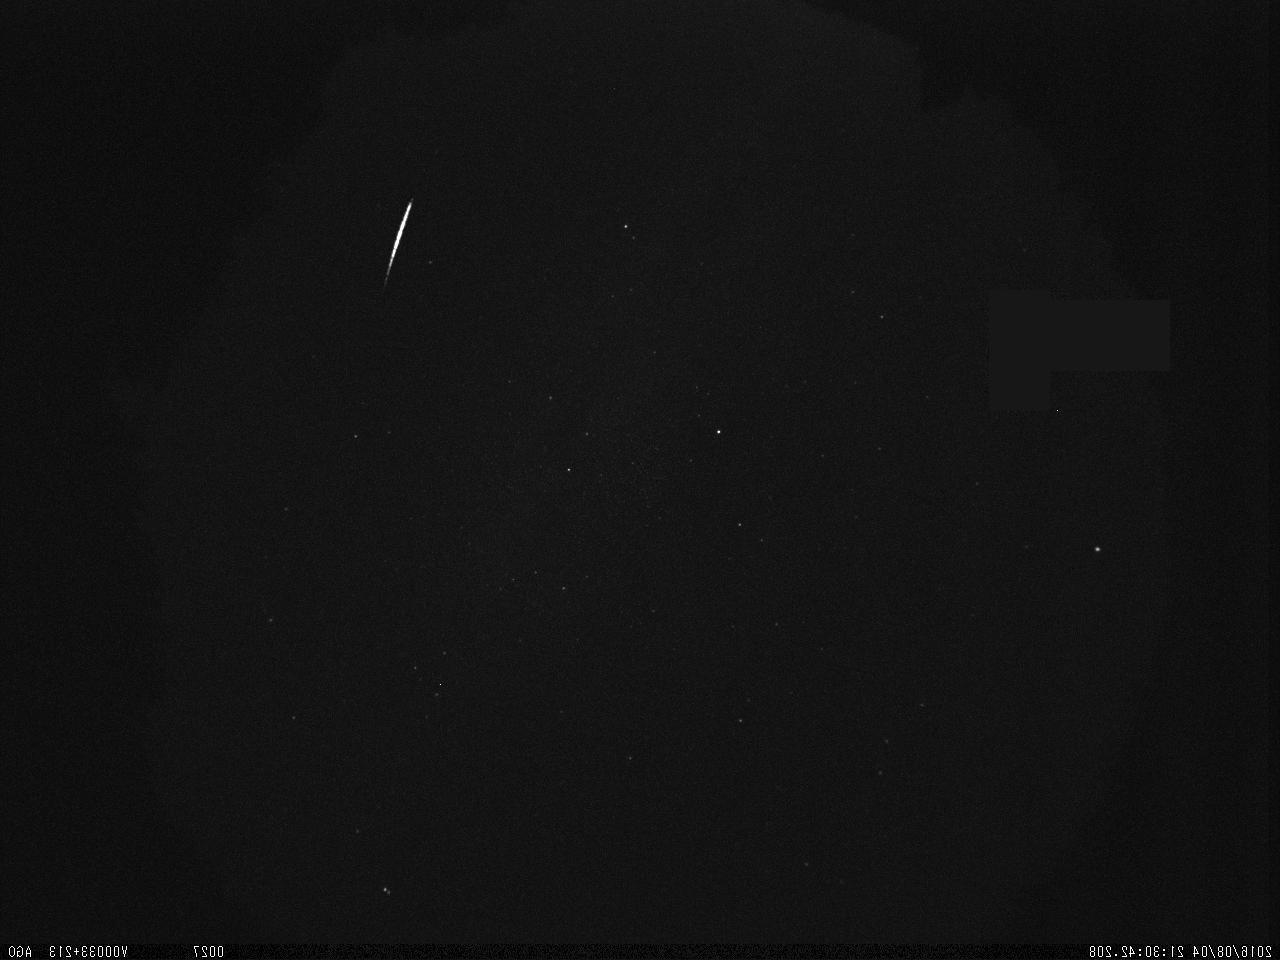meteor: (370, 189, 422, 287)
